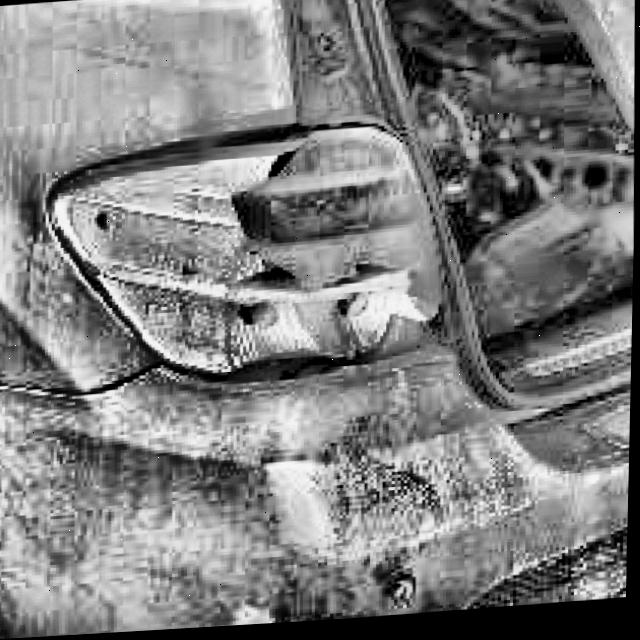tail_lamp: (227, 140, 414, 370)
